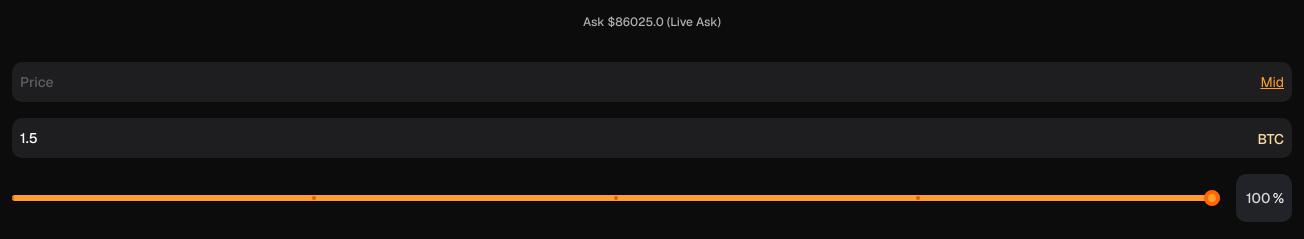
Scenario: CloseOrder Modal Component › Limit Order Functionality › shows 'Mid' button to set current price
Click the button "Mid" at (1272, 82), box [1260,72,1284,92]
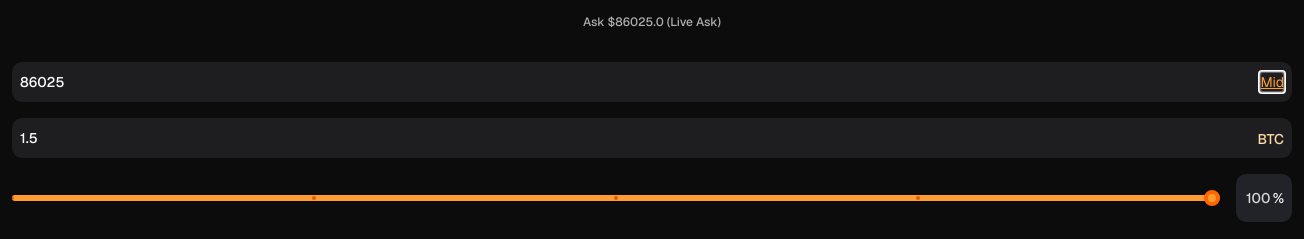
Check: the 1st field with placeholder "Price" holds "86025", box [12,62,1292,102]
